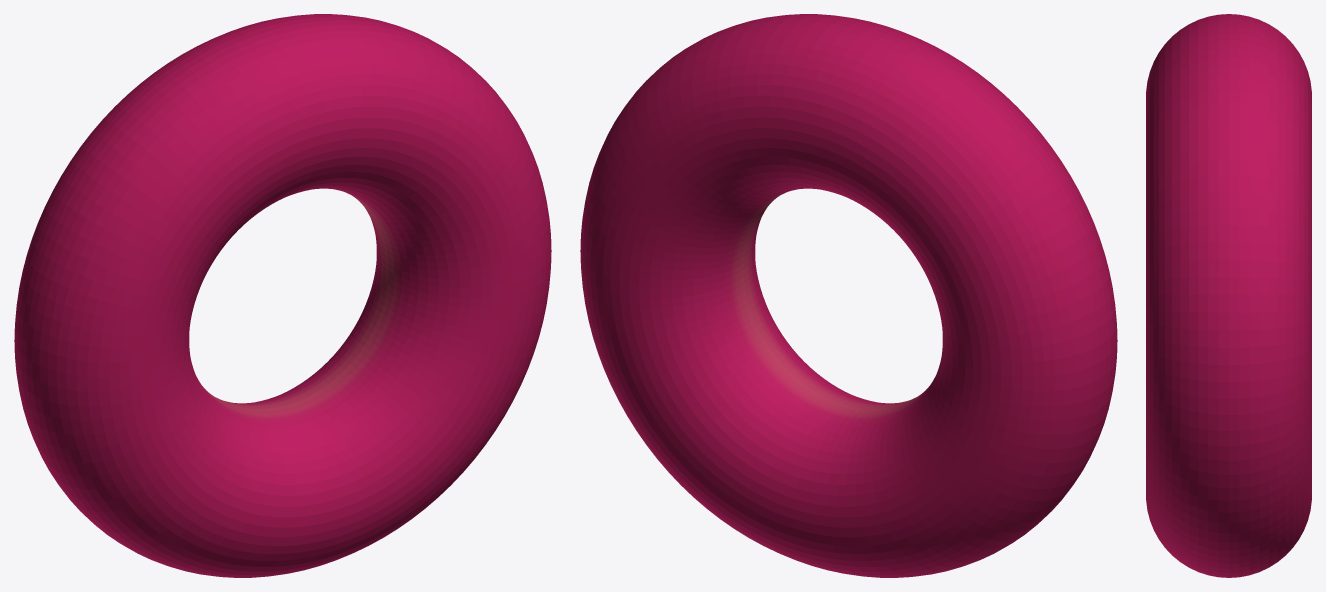
The picture shows the model from 3 angles, left to right: view 1: azimuth 30°, elevation 25°; view 2: azimuth 150°, elevation 25°; view 3: azimuth 270°, elevation 25°; orthographic projection. The views are drawn at different scales.
Parts seen in each view (by area): view 1: world; view 2: world; view 3: world.
Part boxes in pixels (x1=…): world: x1=14, y1=14, x2=551, y2=577; world: x1=580, y1=14, x2=1117, y2=577; world: x1=1146, y1=14, x2=1311, y2=577.
Bounding box in the file's own units: 32.13 × 32.13 × 9.45.
